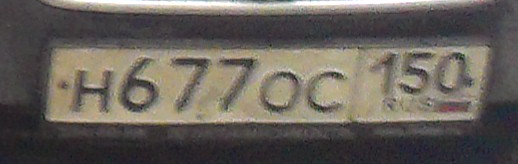character: (216, 50, 260, 118), (118, 53, 161, 117), (169, 53, 211, 116), (260, 64, 306, 120), (68, 66, 114, 119), (305, 64, 349, 117), (401, 44, 436, 99), (436, 44, 468, 99), (368, 45, 399, 99)
